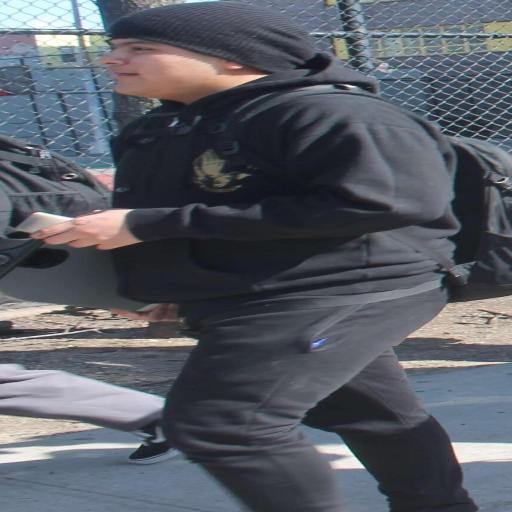person: (33, 2, 477, 511), (0, 364, 178, 464)
